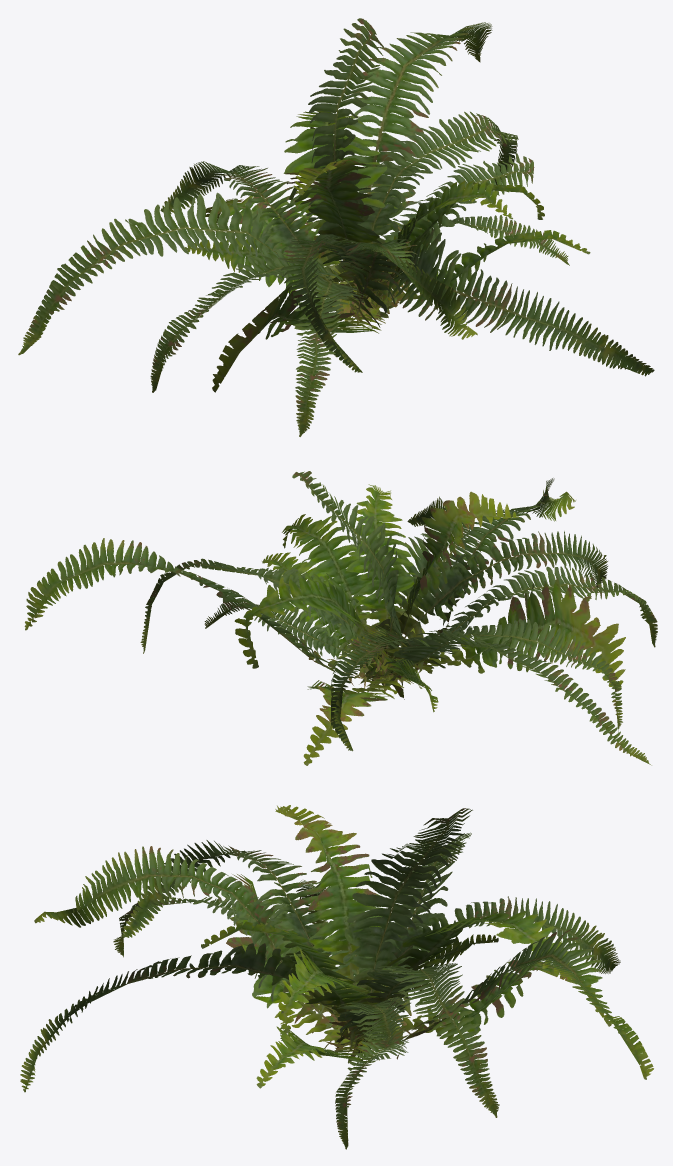
The picture shows the model from 3 angles, top to bottom: view 1: azimuth 30°, elevation 25°; view 2: azimuth 150°, elevation 25°; view 3: azimuth 270°, elevation 25°; orthographic projection. The views are drawn at different scales.
Visible parts, largest first — view 1: fern_02__b_lod0; view 2: fern_02__b_lod0; view 3: fern_02__b_lod0.
Boxes of the visible parts, bbox=[...] form: fern_02__b_lod0: bbox=[18, 18, 654, 436]; fern_02__b_lod0: bbox=[24, 471, 657, 765]; fern_02__b_lod0: bbox=[20, 805, 653, 1149].
Size of the model in its own units: 1.03 by 0.4517 by 0.9274.
1 material, 1 textured.
